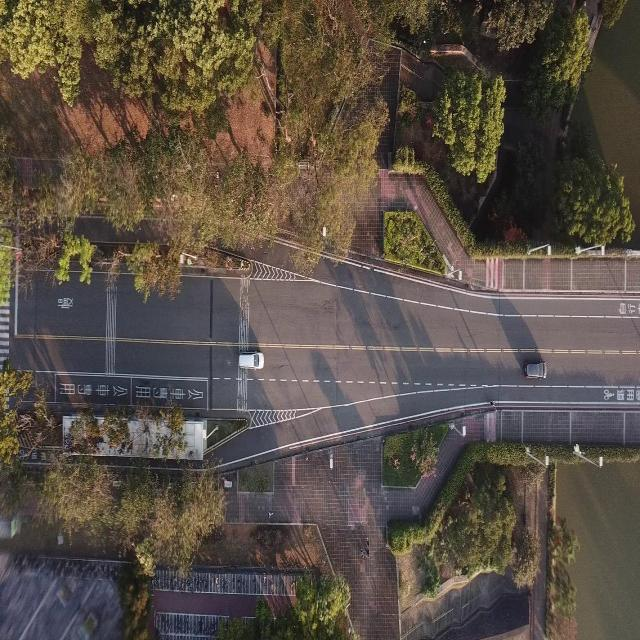car: (233, 344, 266, 375), (523, 355, 546, 379)
